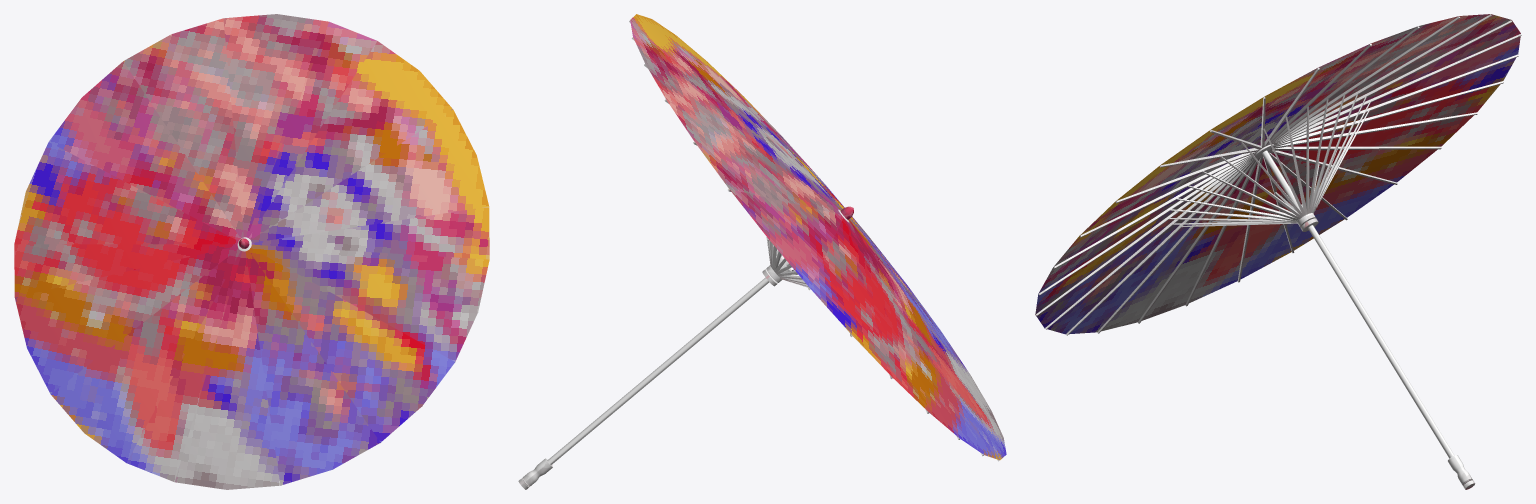
Rendered from wear_wagasa2.glb.
3 views of the same model, side by side, from view 1: azimuth 30°, elevation 25°; view 2: azimuth 150°, elevation 25°; view 3: azimuth 270°, elevation 25° (orthographic). The views are drawn at different scales.
Visible parts, largest first — view 1: mesh; view 2: mesh; view 3: mesh.
Boxes of the visible parts, x1=… form: mesh: x1=14, y1=14, x2=489, y2=489; mesh: x1=518, y1=14, x2=1006, y2=489; mesh: x1=1035, y1=14, x2=1521, y2=489.
Bounding box in the file's own units: 0.4945 × 0.5 × 0.5262.
Materials: 1 (1 with a texture image).
